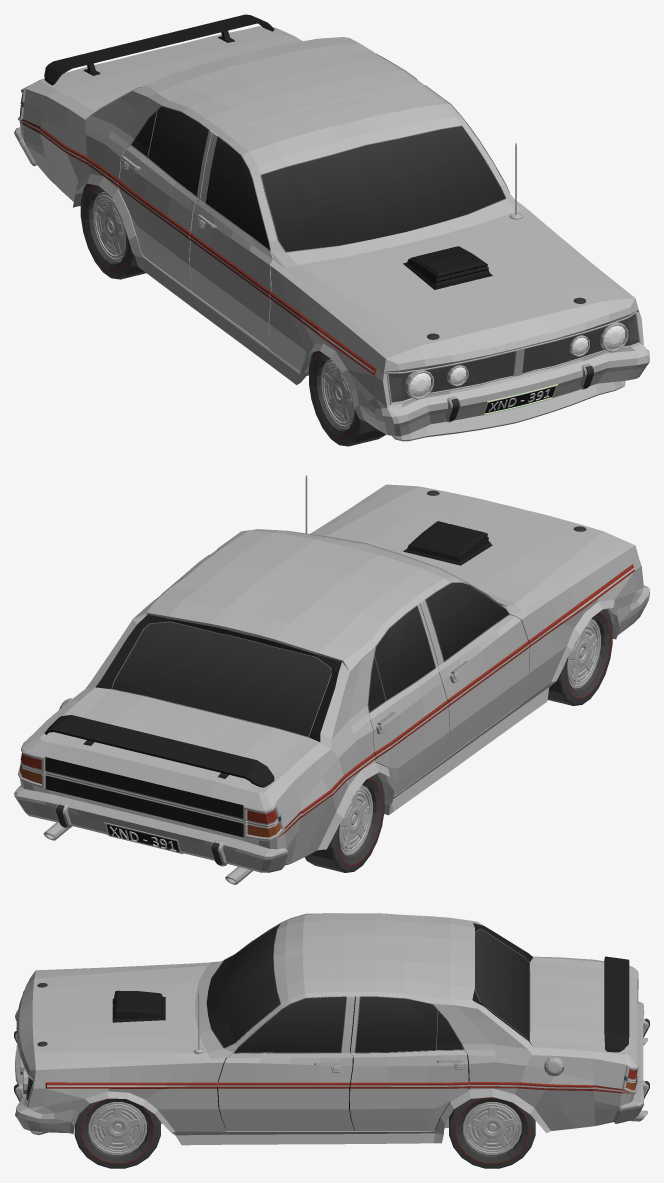
Rendered from car.fbx.
The picture shows the model from 3 angles, top to bottom: view 1: azimuth 30°, elevation 25°; view 2: azimuth 150°, elevation 25°; view 3: azimuth 270°, elevation 25°; orthographic projection. The views are drawn at different scales.
Visible parts, largest first — view 1: Cube.018, Circle.048, Circle.049, Cube.015, Circle.045, Cube.017; view 2: Cube.018, Cube.015, Circle.049, Circle.048, Cube.017, Cube.016; view 3: Cube.018, Circle.044, Circle.043, Cube.015, Cube.017.
Boxes of the visible parts, x1=… form: Cube.018: x1=14, y1=26, x2=649, y2=441; Circle.048: x1=309, y1=351, x2=385, y2=446; Circle.049: x1=80, y1=183, x2=146, y2=279; Cube.015: x1=44, y1=14, x2=274, y2=85; Circle.045: x1=405, y1=322, x2=628, y2=399; Cube.017: x1=130, y1=53, x2=509, y2=252; Cube.018: x1=14, y1=484, x2=649, y2=872; Cube.015: x1=44, y1=715, x2=274, y2=787; Circle.049: x1=304, y1=773, x2=384, y2=872; Circle.048: x1=547, y1=609, x2=612, y2=705; Cube.017: x1=111, y1=530, x2=509, y2=737; Cube.016: x1=55, y1=802, x2=226, y2=866; Cube.018: x1=15, y1=913, x2=644, y2=1145; Circle.044: x1=449, y1=1097, x2=535, y2=1168; Circle.043: x1=74, y1=1098, x2=160, y2=1168; Cube.015: x1=604, y1=956, x2=629, y2=1052; Cube.017: x1=209, y1=913, x2=530, y2=1053.
Bounding box in the file's own units: 192 × 140 × 473.
7 materials, 5 textured.
